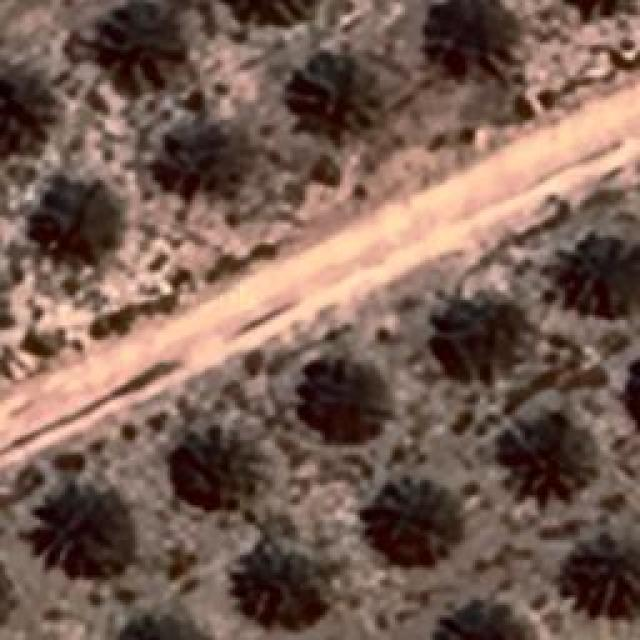PalmTree: (494, 408, 598, 506), (34, 484, 128, 578), (290, 44, 380, 138), (412, 0, 518, 75), (370, 478, 460, 560), (434, 294, 524, 374), (306, 356, 389, 442), (177, 426, 265, 504), (562, 235, 640, 318), (249, 538, 329, 618), (156, 121, 239, 189), (574, 527, 638, 615), (96, 12, 172, 82), (45, 188, 115, 262), (0, 56, 50, 159), (424, 597, 537, 640), (112, 597, 225, 640), (216, 0, 330, 32), (551, 0, 640, 24)
